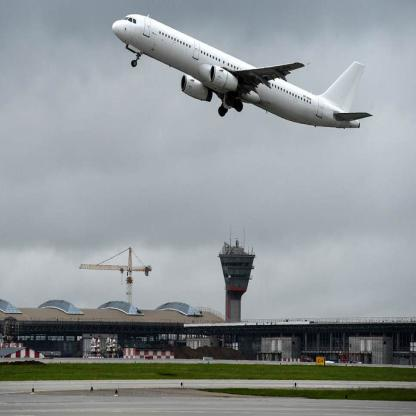CIV_Plane: (110, 10, 378, 135)
